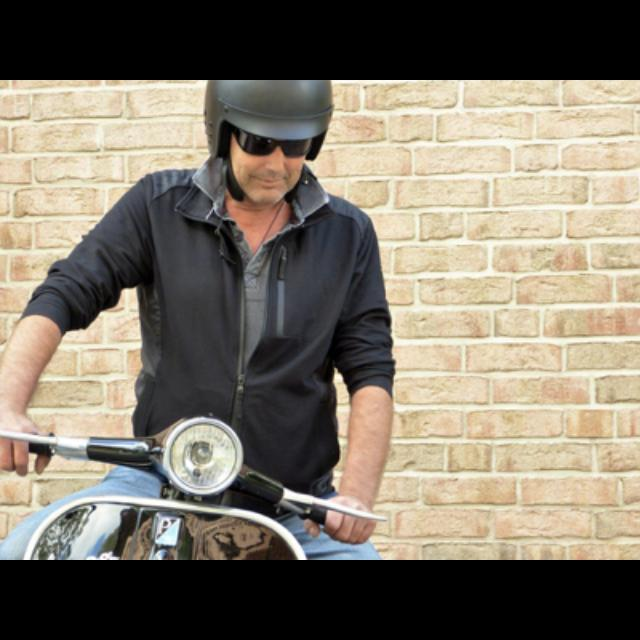With Helmet: (192, 82, 336, 208)
